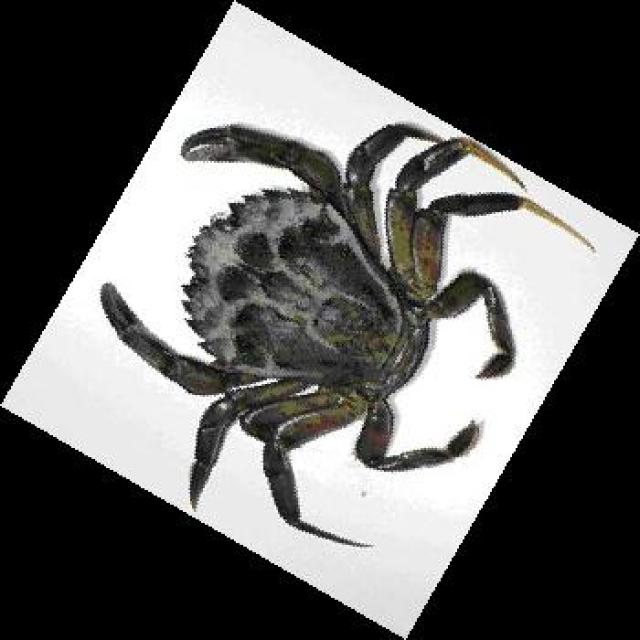European Green crab: (101, 123, 594, 545)
